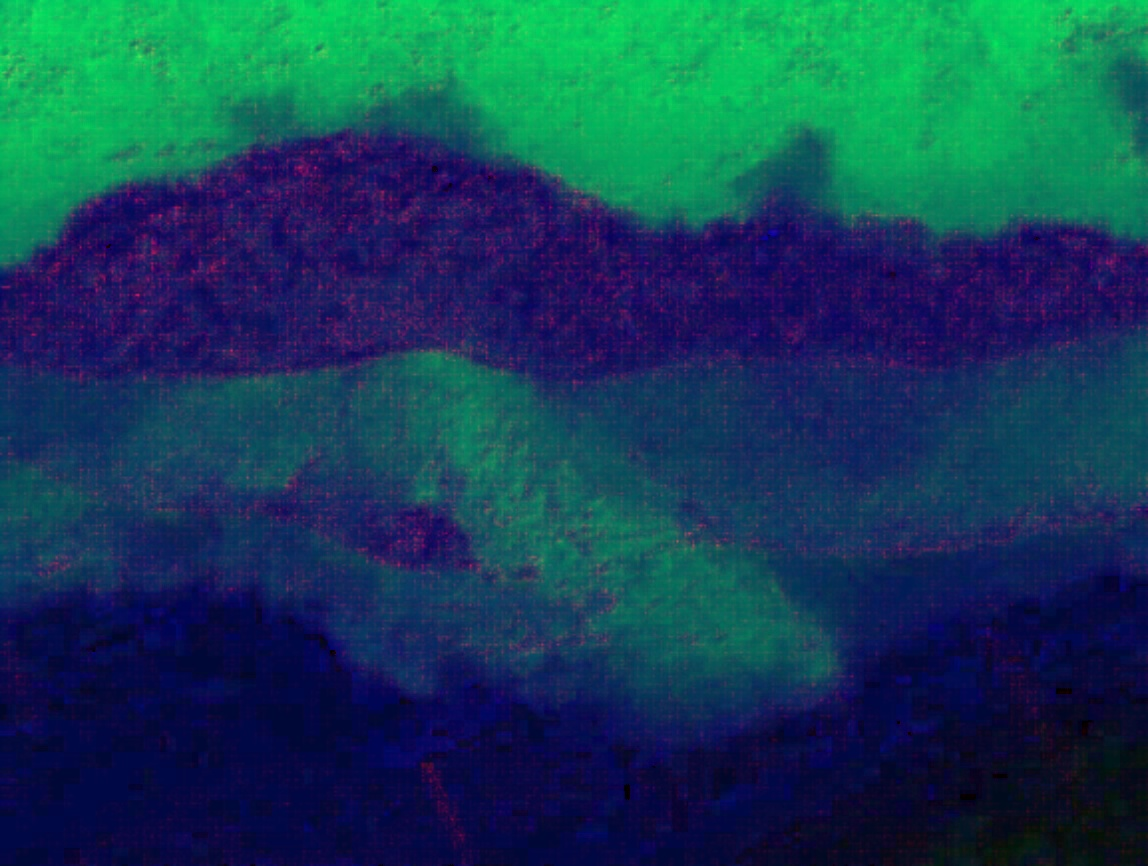rip_current: (331, 275, 835, 684)
